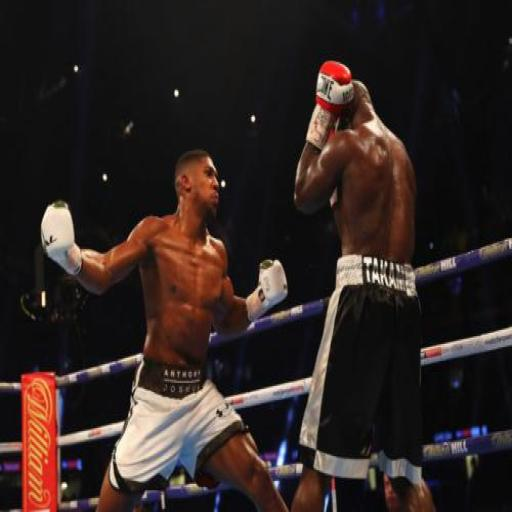boxing: (252, 28, 485, 512), (39, 146, 290, 510), (315, 16, 316, 16)
